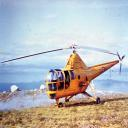helicopter: (4, 44, 128, 110)
